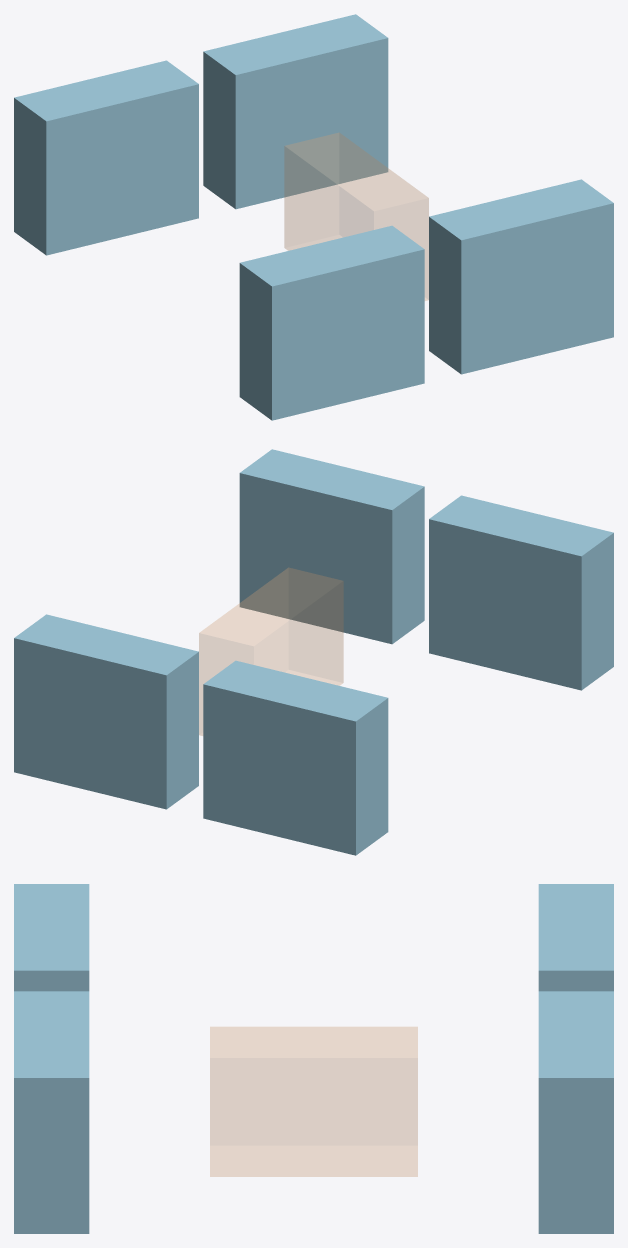
Rendered from supermarket-layout.glb.
The picture shows the model from 3 angles, top to bottom: view 1: azimuth 30°, elevation 25°; view 2: azimuth 150°, elevation 25°; view 3: azimuth 270°, elevation 25°; orthographic projection. The views are drawn at different scales.
Parts seen in each view (by area): view 1: Collider shelf-s1, Collider shelf-n2, Collider shelf-n1, Collider shelf-s2, Collider blocked-aisle; view 2: Collider shelf-n1, Collider shelf-s2, Collider shelf-n2, Collider shelf-s1, Collider blocked-aisle; view 3: Collider blocked-aisle, Collider shelf-n2, Collider shelf-s2, Collider shelf-n1, Collider shelf-s1.
Boxes of the visible parts, x1=… form: Collider shelf-s1: x1=239, y1=225, x2=424, y2=420; Collider shelf-n2: x1=203, y1=14, x2=388, y2=209; Collider shelf-n1: x1=14, y1=60, x2=198, y2=255; Collider shelf-s2: x1=429, y1=179, x2=613, y2=374; Collider blocked-aisle: x1=284, y1=133, x2=428, y2=300; Collider shelf-n1: x1=203, y1=660, x2=388, y2=855; Collider shelf-s2: x1=239, y1=449, x2=424, y2=644; Collider shelf-n2: x1=14, y1=614, x2=198, y2=809; Collider shelf-s1: x1=429, y1=495, x2=613, y2=690; Collider blocked-aisle: x1=199, y1=568, x2=343, y2=735; Collider blocked-aisle: x1=210, y1=1027, x2=417, y2=1176; Collider shelf-n2: x1=538, y1=991, x2=613, y2=1233; Collider shelf-s2: x1=14, y1=991, x2=89, y2=1233; Collider shelf-n1: x1=538, y1=884, x2=613, y2=991; Collider shelf-s1: x1=14, y1=884, x2=89, y2=991.
Bounding box in the file's own units: 5.6 × 2.1 × 7.32.
